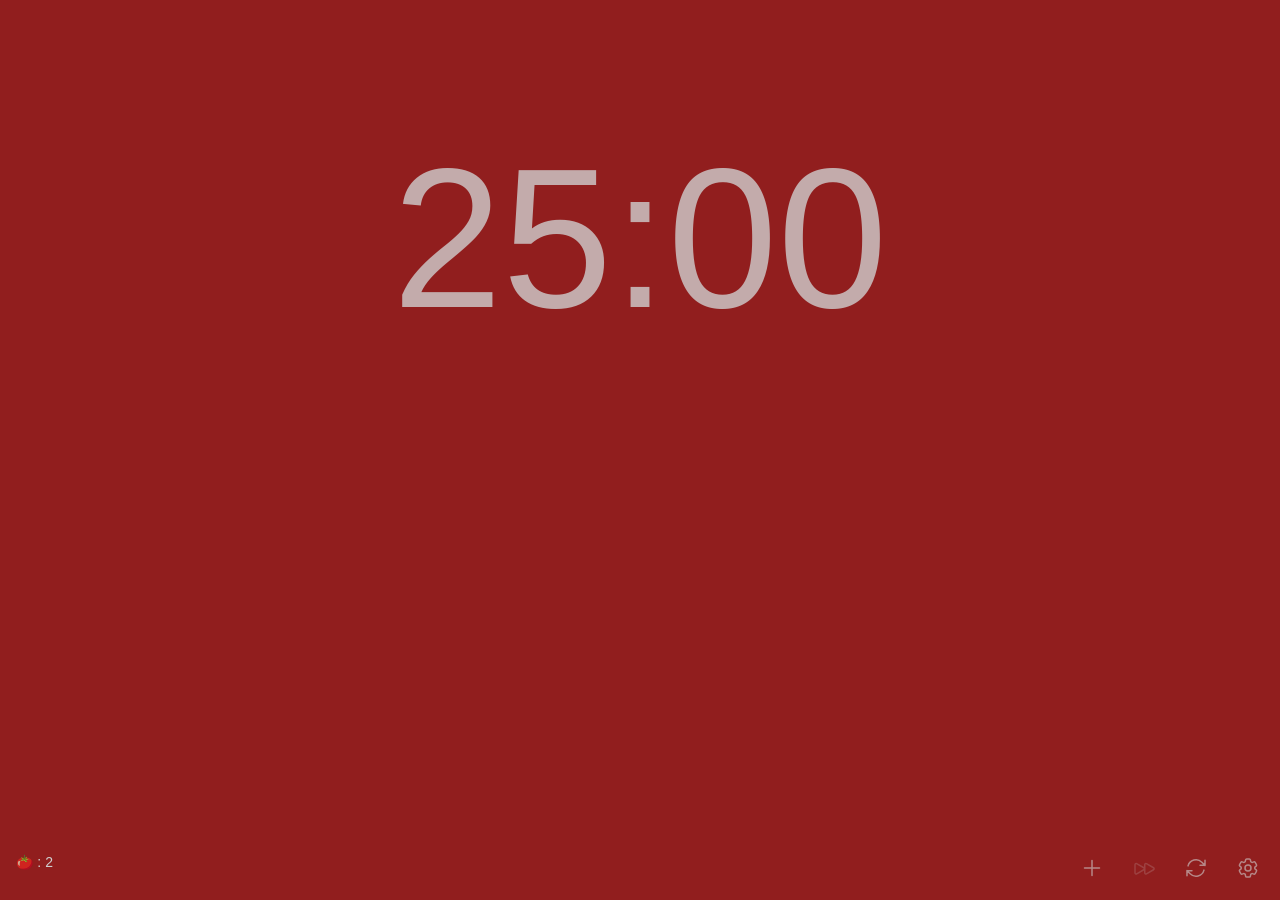
웹앱 (Tauri 브리지 없음) › 오늘 개수를 누르면 기록이 모달로 열린다
The image size is (1280, 900).
Step 1. Click the button titled "오늘의 기록" → (34, 862), box [12,848,57,876]
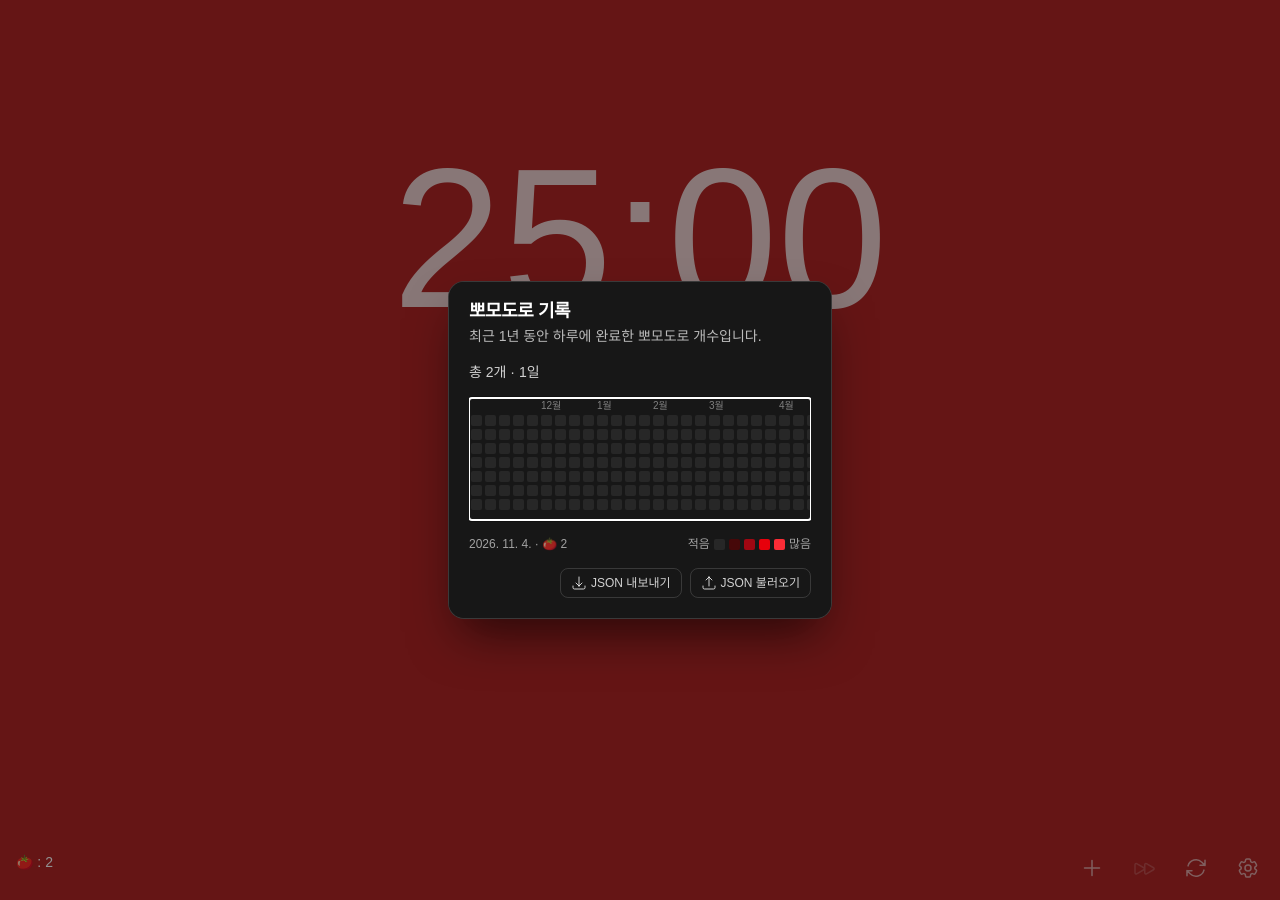
Now the text "총 2개 · 1일" is shown, box [469,364,540,380]
